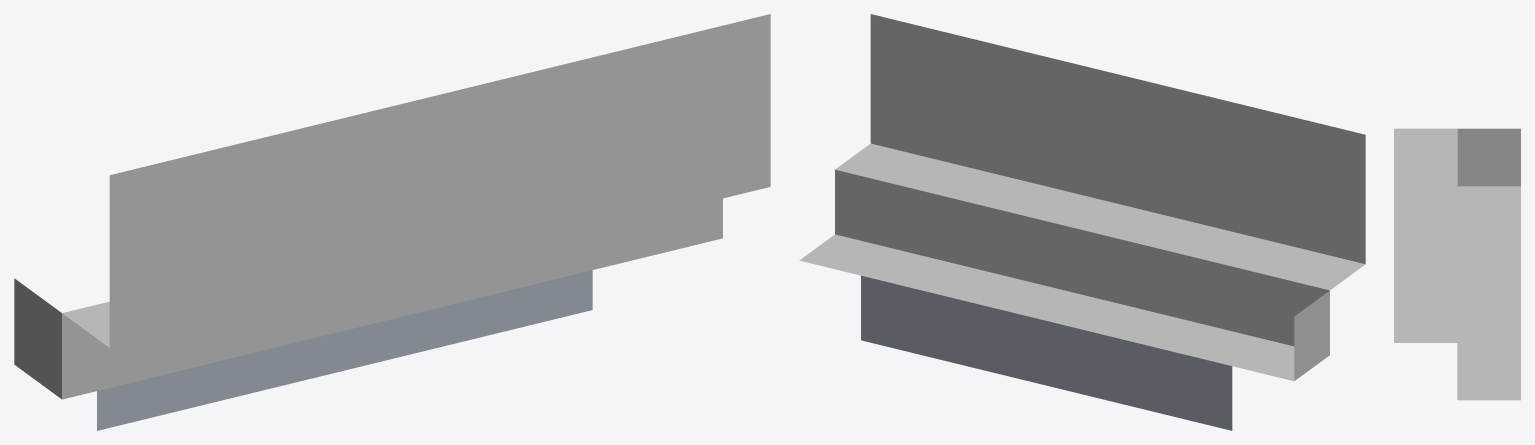
File: cell_11.obj
3 renders of one model, left to right at view 1: azimuth 30°, elevation 25°; view 2: azimuth 150°, elevation 25°; view 3: azimuth 270°, elevation 25°, orthographic. The views are drawn at different scales.
Bounding box in the file's own units: 1 × 0.5 × 0.25.
